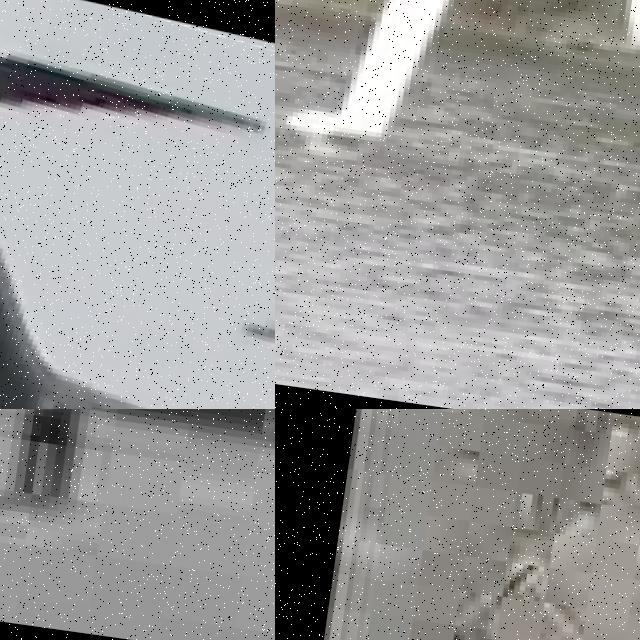drone: (0, 0, 275, 409)
